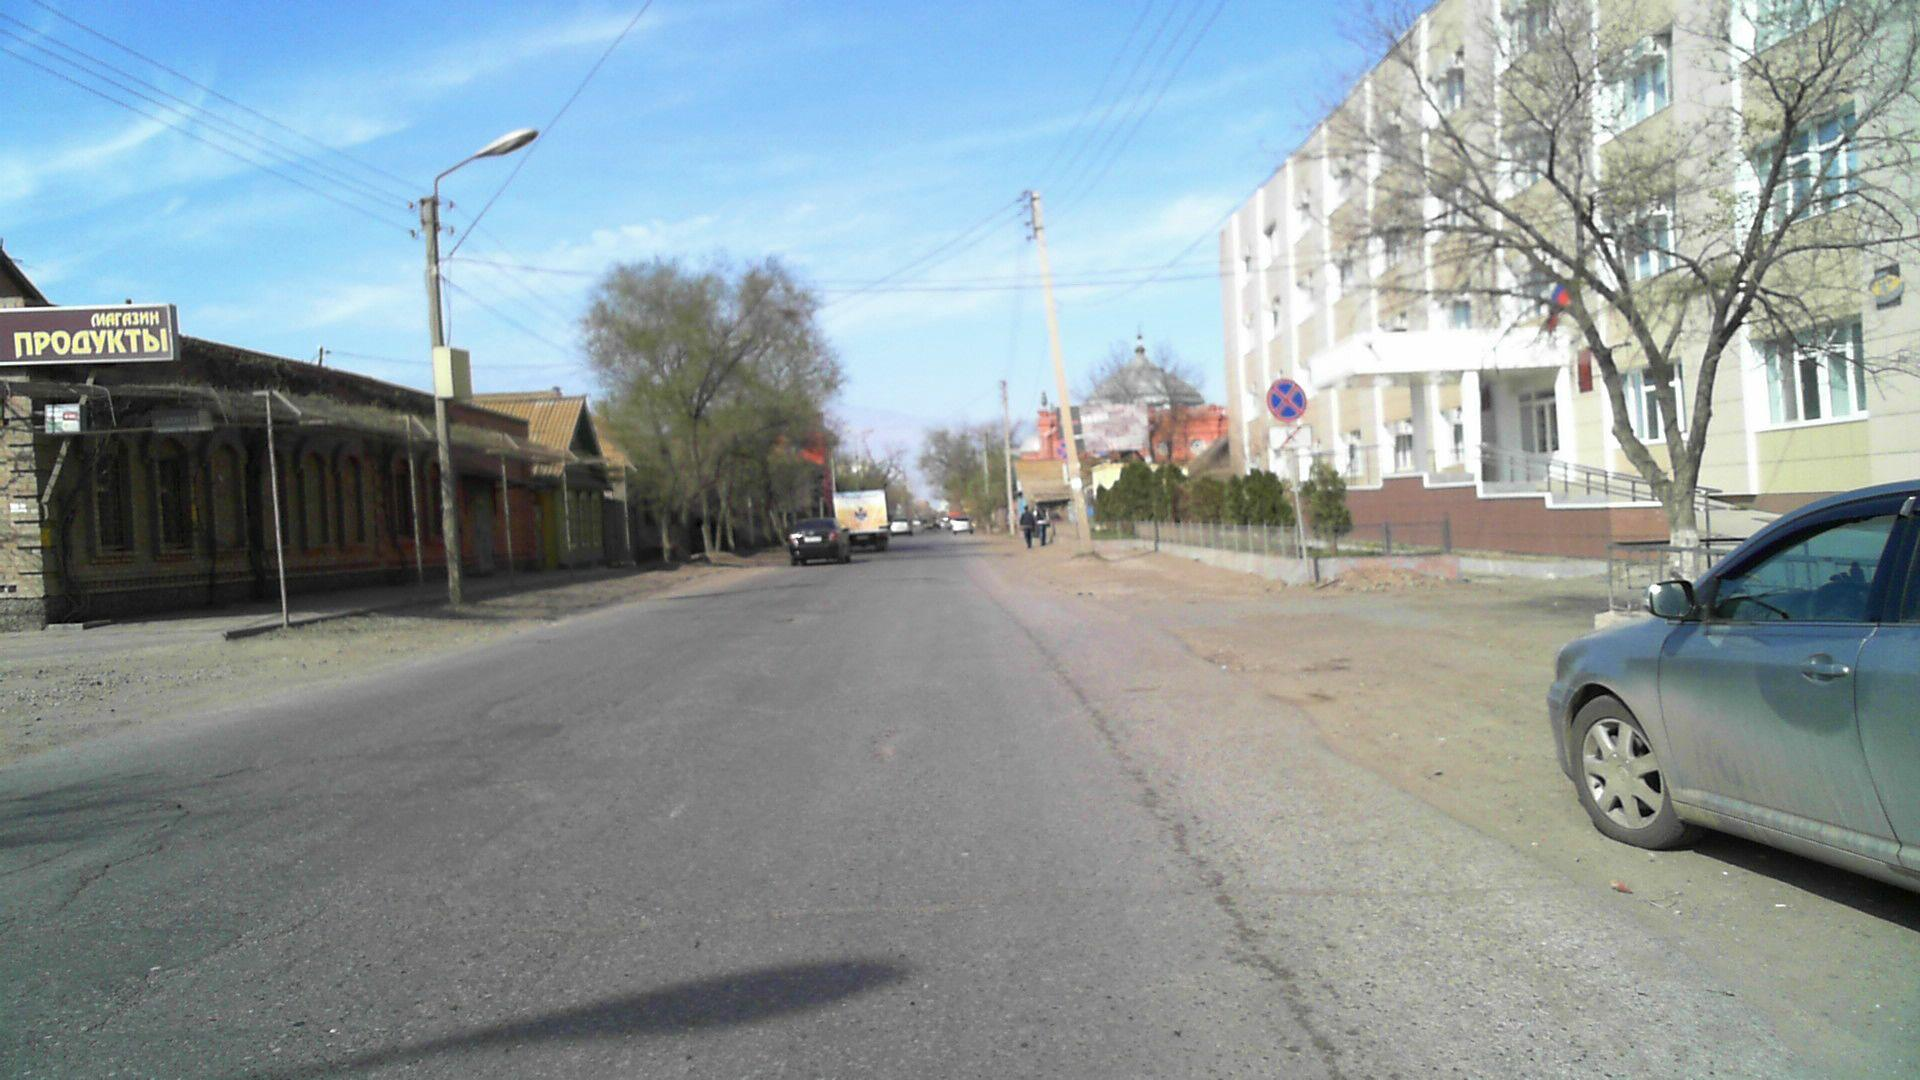3_27: (1258, 376, 1310, 426)
8_18: (1268, 426, 1312, 450)
